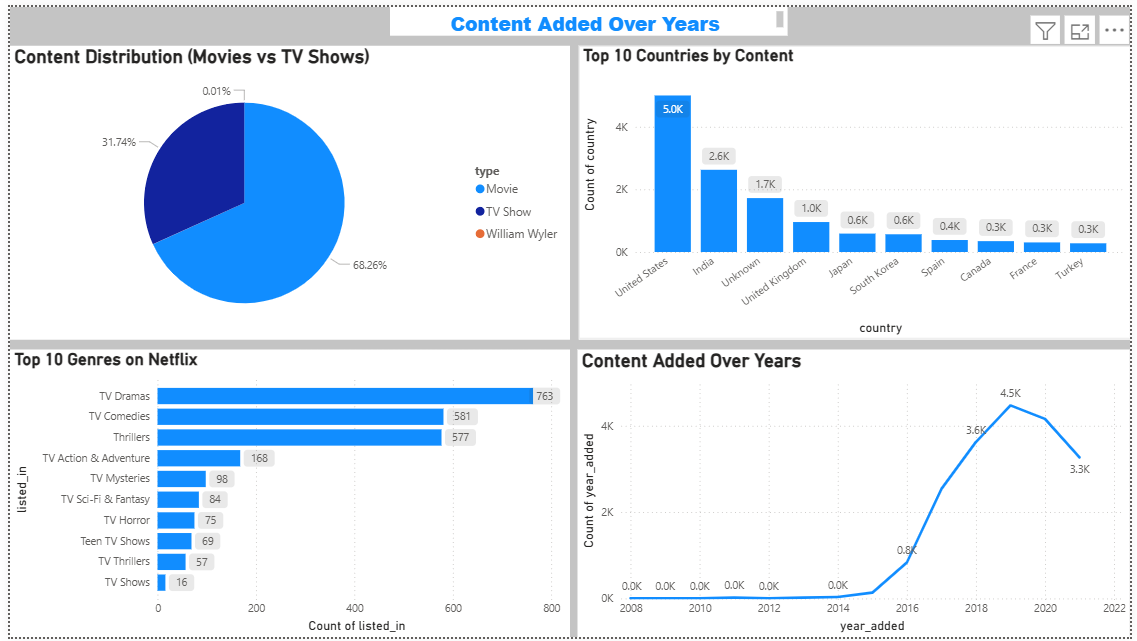

What the dashboard file says about the page in this screenshot:
{"tool":"powerbi","page":{"name":"Page 1","canvas":[1280,720],"ordinal":0},"visuals":[{"type":"columnChart","title":"Top 10 Countries by Content","fields":{"Y":["CountNonNull(netflix_cleaned.country)"],"Category":["netflix_cleaned.country"]},"box":[650,44.3,630,335.7],"z":0},{"type":"barChart","title":"Top 10 Genres on Netflix","fields":{"Y":["CountNonNull(netflix_cleaned.listed_in)"],"Category":["netflix_cleaned.listed_in"]},"box":[0,391.4,640,328.6],"z":1000},{"type":"pieChart","title":"Content Distribution (Movies vs TV Shows)","fields":{"Category":["netflix_cleaned.type"],"Y":["CountNonNull(netflix_cleaned.type)"]},"box":[0,44.3,640,335.7],"z":2000},{"type":"lineChart","title":"Content Added Over Years","fields":{"Category":["netflix_cleaned.year_added"],"Y":["CountNonNull(netflix_cleaned.year_added)"]},"box":[648.6,391.4,631.4,328.6],"z":3000},{"type":"textbox","box":[434.3,0,454.3,32.9],"z":3001}]}

Visuals, with their boxes in screenshot pixels (x1, y1, x2, y2), scaled from the page's 1280x720 canvas onto the 1137x641 screenshot:
"Top 10 Countries by Content" columnChart: detection(577, 39, 1136, 338)
"Top 10 Genres on Netflix" barChart: detection(0, 348, 568, 640)
"Content Distribution (Movies vs TV Shows)" pieChart: detection(0, 39, 568, 338)
"Content Added Over Years" lineChart: detection(576, 348, 1136, 640)
textbox: detection(386, 0, 789, 29)
